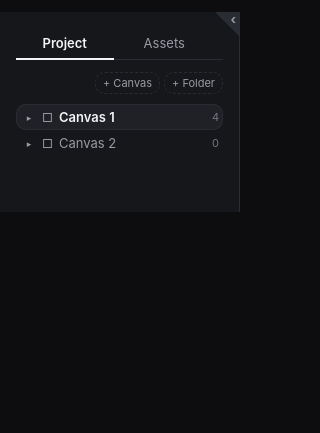
Scenario: the board's shelf, one kind at a time › lists what this board holds, and keeps the rest out of the way
The image size is (320, 433).
Click the tab with test id "left-tab-assets" at coordinates (164, 44), box 116,28 -> 213,60
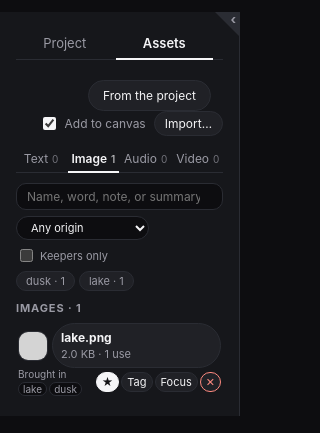
Click the tab "Text 0" at coordinates (41, 160), box 16,146 -> 66,173
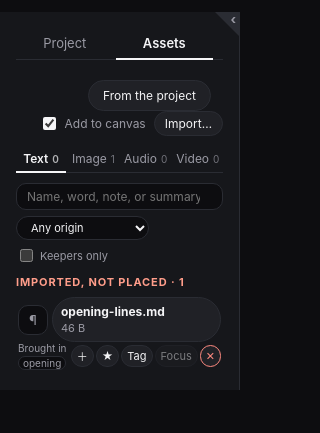
Now the element with test id "shelf-tray" shows "opening-lines.md", box 52,297 -> 221,342
Click the tab "Audio 0" at coordinates (146, 160), box 120,146 -> 171,173
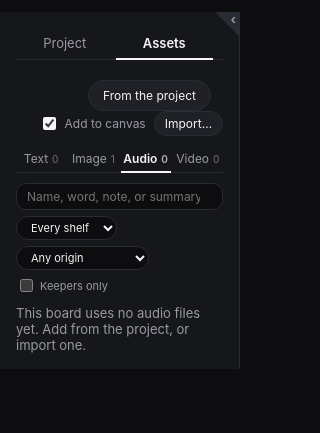
Now the text "This board uses no audio files yet" is shown, box 16,305 -> 200,353
